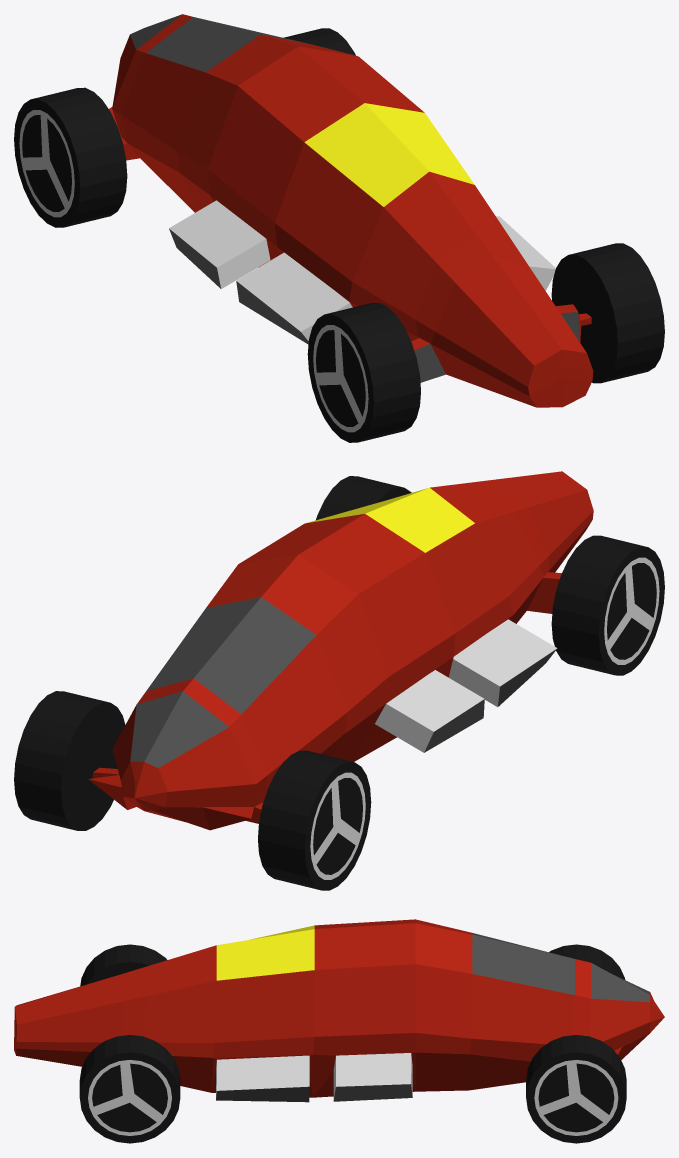
File: sixth_model_Lakester - Copy.glb
3 views of the same model, one above another, from view 1: azimuth 30°, elevation 25°; view 2: azimuth 150°, elevation 25°; view 3: azimuth 270°, elevation 25° (orthographic). The views are drawn at different scales.
Visible parts, largest first — view 1: Cube.001, Cylinder.002, Cylinder.001, Cylinder, Cylinder.003; view 2: Cube.001, Cylinder.002, Cylinder.001, Cylinder.003, Cylinder; view 3: Cube.001, Cylinder, Cylinder.003, Cylinder.001, Cylinder.002.
Boxes of the visible parts, x1,y1,x2,y2 form: Cube.001: (109, 14, 593, 407); Cylinder.002: (14, 87, 127, 227); Cylinder.001: (307, 303, 420, 442); Cylinder: (551, 243, 664, 383); Cylinder.003: (283, 28, 355, 55); Cube.001: (88, 471, 593, 830); Cylinder.002: (258, 750, 371, 890); Cylinder.001: (551, 535, 664, 675); Cylinder.003: (14, 691, 125, 830); Cylinder: (316, 476, 411, 520); Cube.001: (14, 919, 664, 1102); Cylinder: (79, 1035, 180, 1143); Cylinder.003: (526, 1035, 626, 1143); Cylinder.001: (80, 944, 167, 986); Cylinder.002: (549, 944, 625, 979).
Size of the model in its own units: 1.61 by 1.16 by 4.11.
